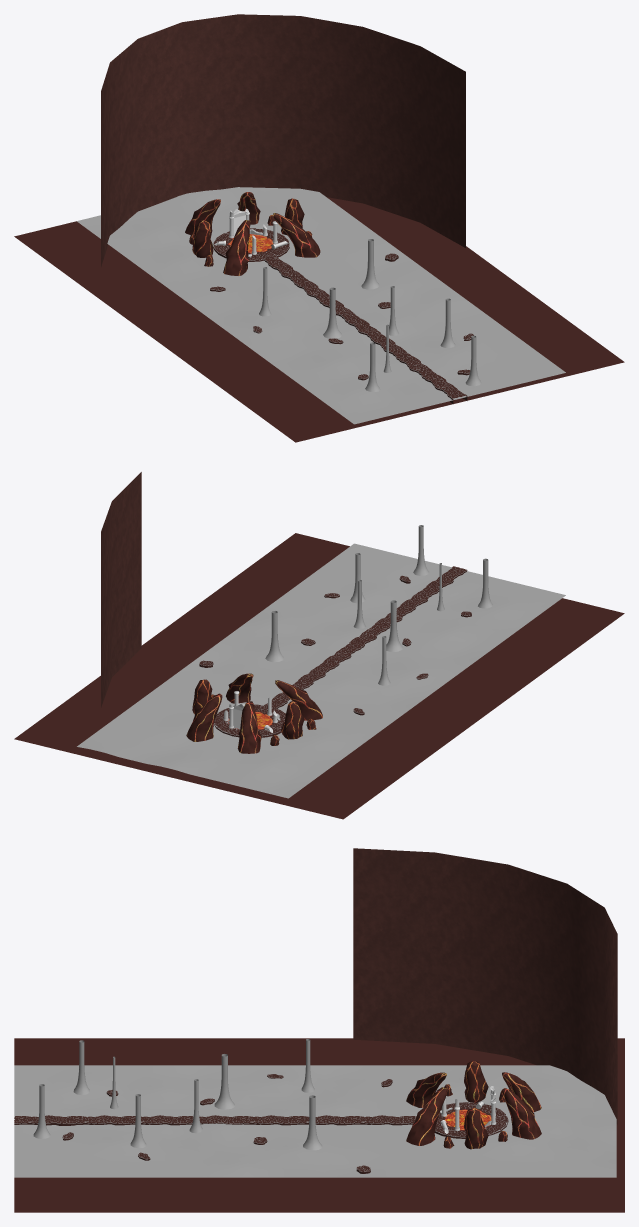
The model's file is angmap.fbx.
3 renders of one model, top to bottom at view 1: azimuth 30°, elevation 25°; view 2: azimuth 150°, elevation 25°; view 3: azimuth 270°, elevation 25°, orthographic. The views are drawn at different scales.
Parts seen in each view (by area): view 1: angdome, angmap; view 2: angmap, angdome; view 3: angdome, angmap.
Boxes of the visible parts, bbox=[...] form: angdome: bbox=[14, 14, 465, 311]; angmap: bbox=[116, 233, 624, 442]; angmap: bbox=[124, 525, 624, 744]; angdome: bbox=[14, 472, 445, 819]; angdome: bbox=[353, 848, 624, 1212]; angmap: bbox=[14, 1038, 403, 1212].
Bounding box in the file's own units: 14855 × 7703 × 22008.
